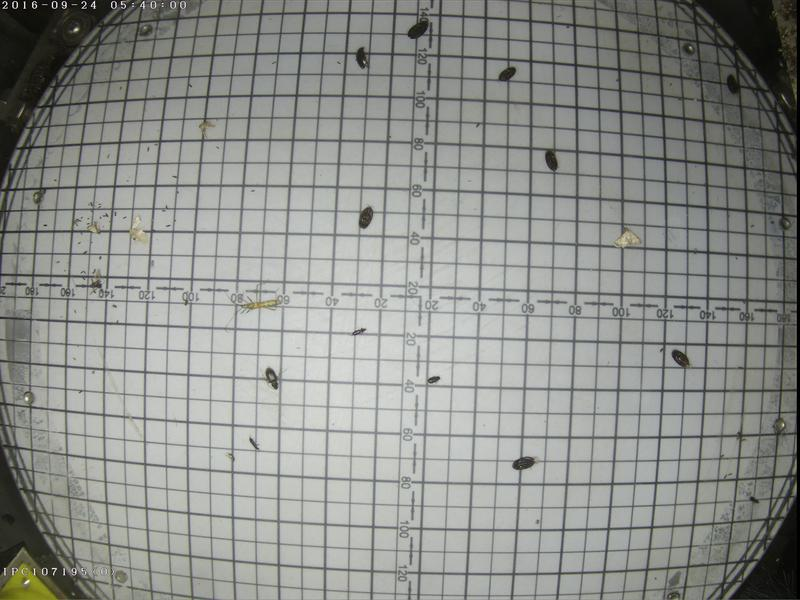Rice Leaf Roller: (611, 223, 642, 249)
